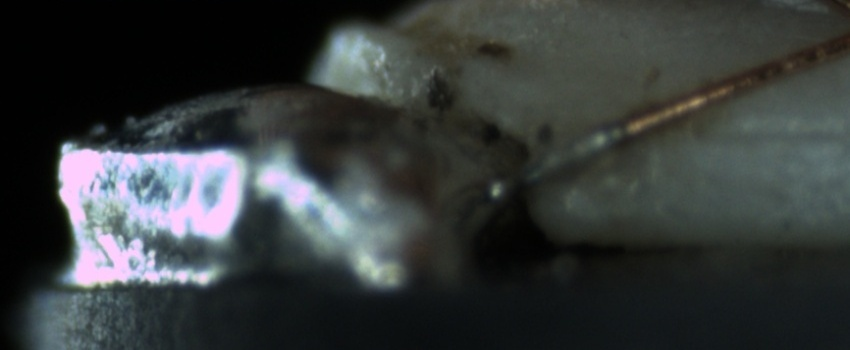DL: (692, 99, 849, 165)
TS: (485, 122, 621, 204)
